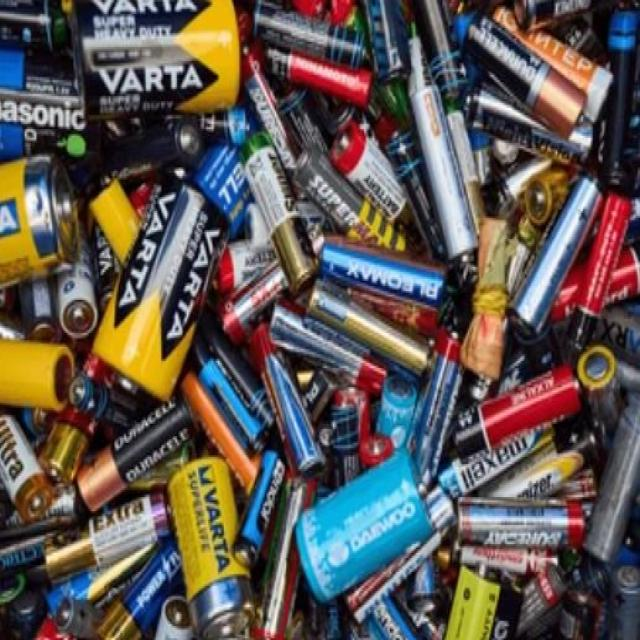electronic: (307, 205, 458, 396)
